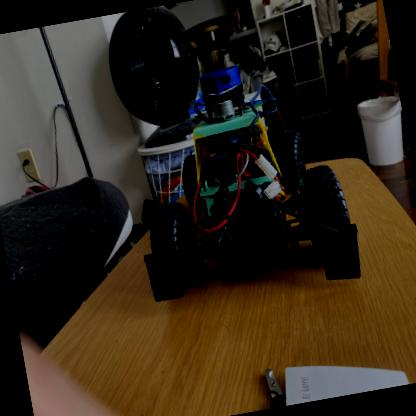mushr_car: (109, 46, 368, 328)
